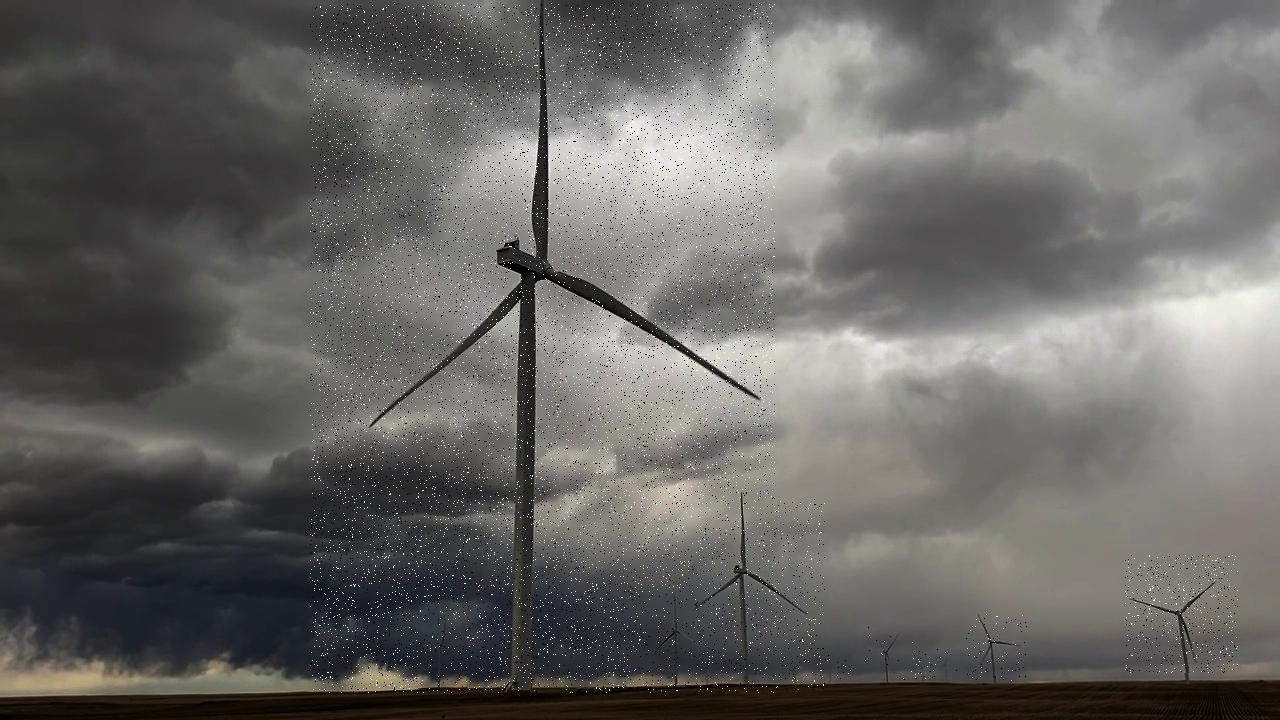turbine: (310, 3, 775, 693), (695, 499, 825, 692), (1124, 556, 1237, 674), (642, 587, 707, 684), (966, 613, 1027, 681), (417, 616, 465, 690), (863, 625, 913, 681), (814, 654, 851, 682), (695, 646, 722, 684), (935, 650, 963, 679), (910, 651, 935, 681)
